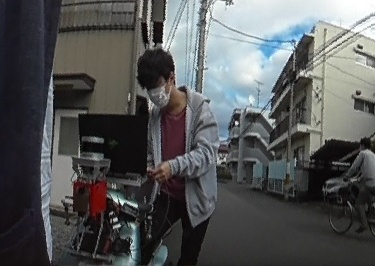person: (131, 49, 219, 266), (354, 131, 375, 227)
